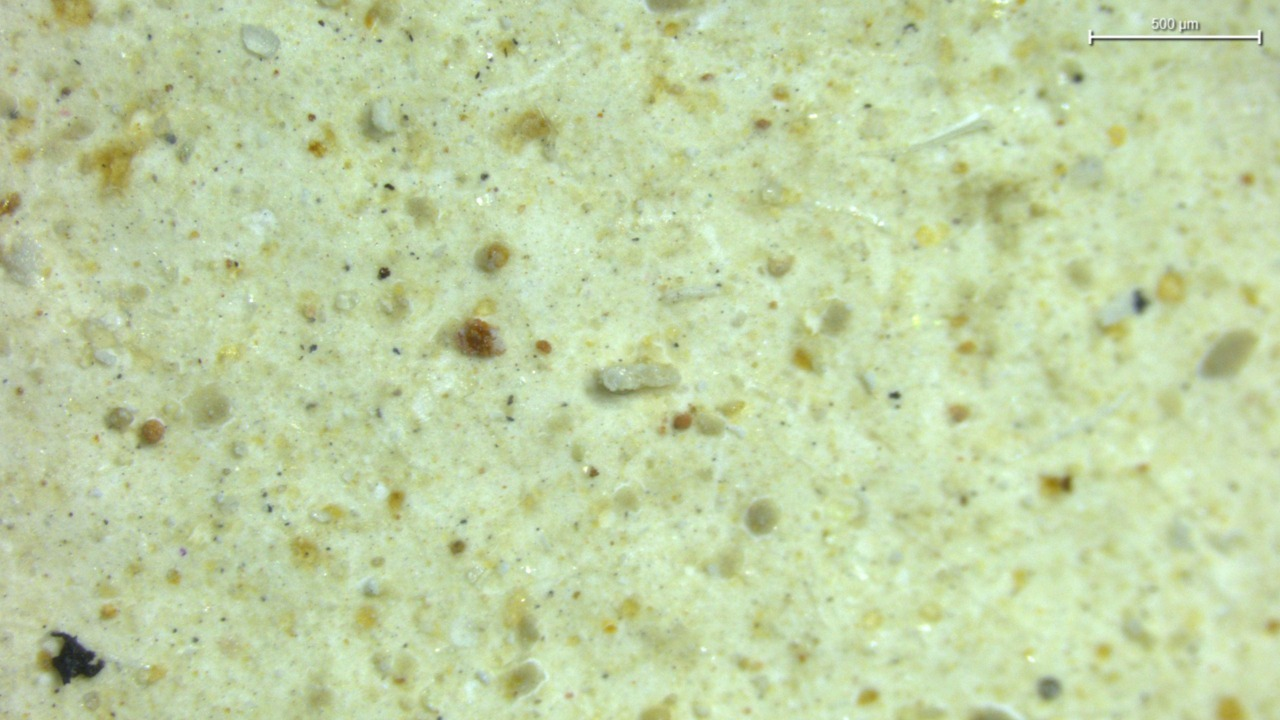microplastic_fragment: (599, 363, 681, 393), (241, 24, 280, 59), (371, 99, 397, 133)
